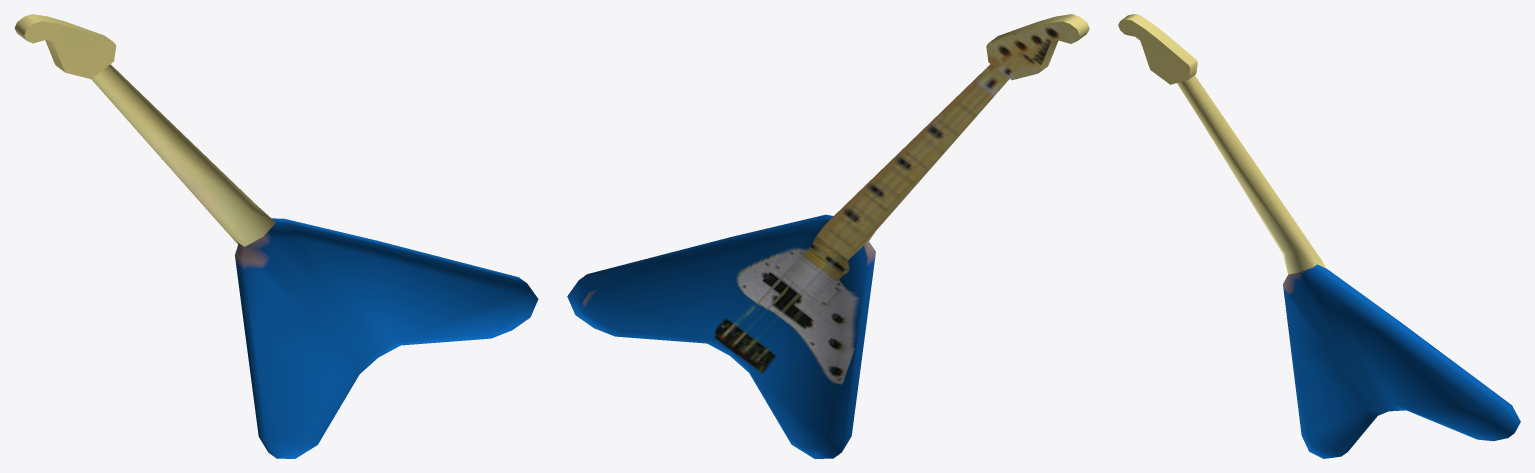
The model's file is rockn.ico.obj.
3 views of the same model, side by side, from view 1: azimuth 30°, elevation 25°; view 2: azimuth 150°, elevation 25°; view 3: azimuth 330°, elevation 25° (orthographic). The views are drawn at different scales.
Bounding box in the file's own units: 4.13 × 3.83 × 0.2754.
1 material, 1 textured.
